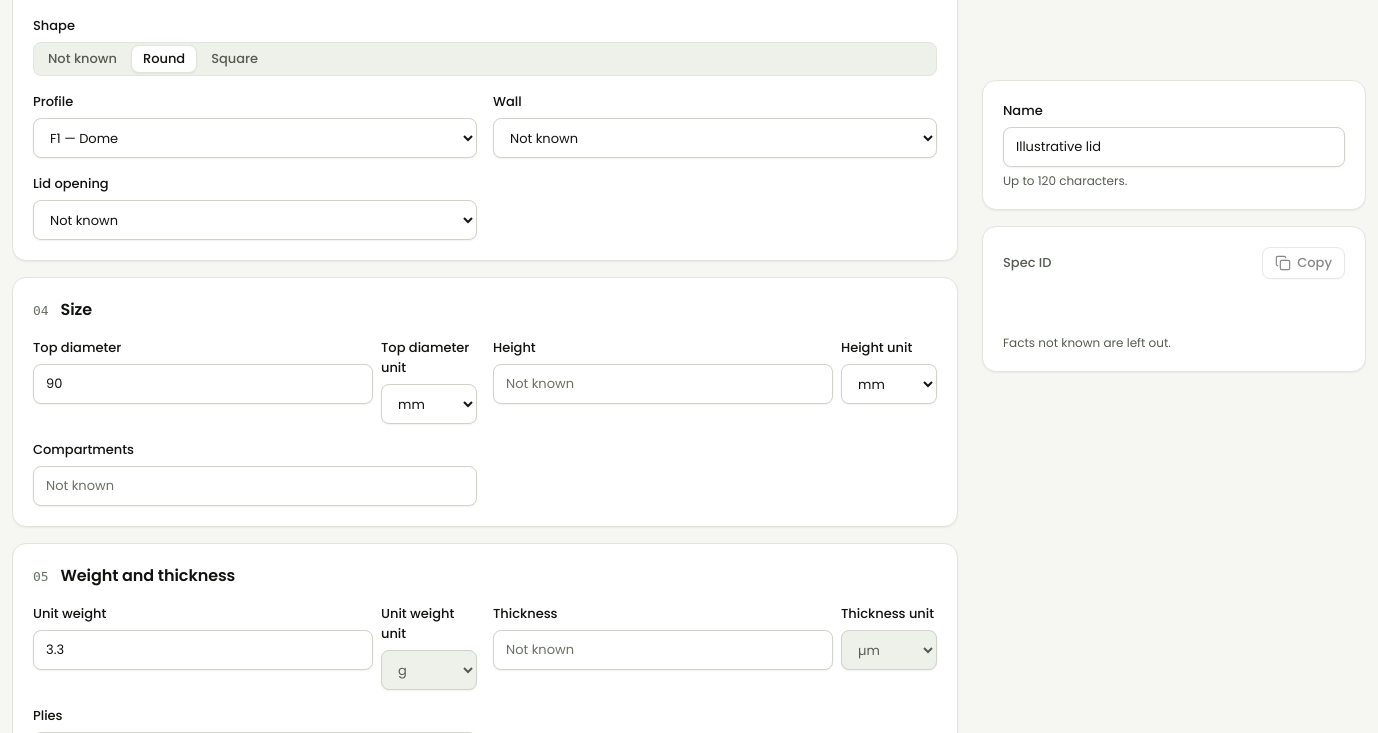
SpecIdEditor, Save changes › refuses a change someone saved first, and Reload starts again from theirs
(page scrolled)
Type "70" into the field labelled "Height" at (663, 384), box 493,364 -> 833,404
(page scrolled)
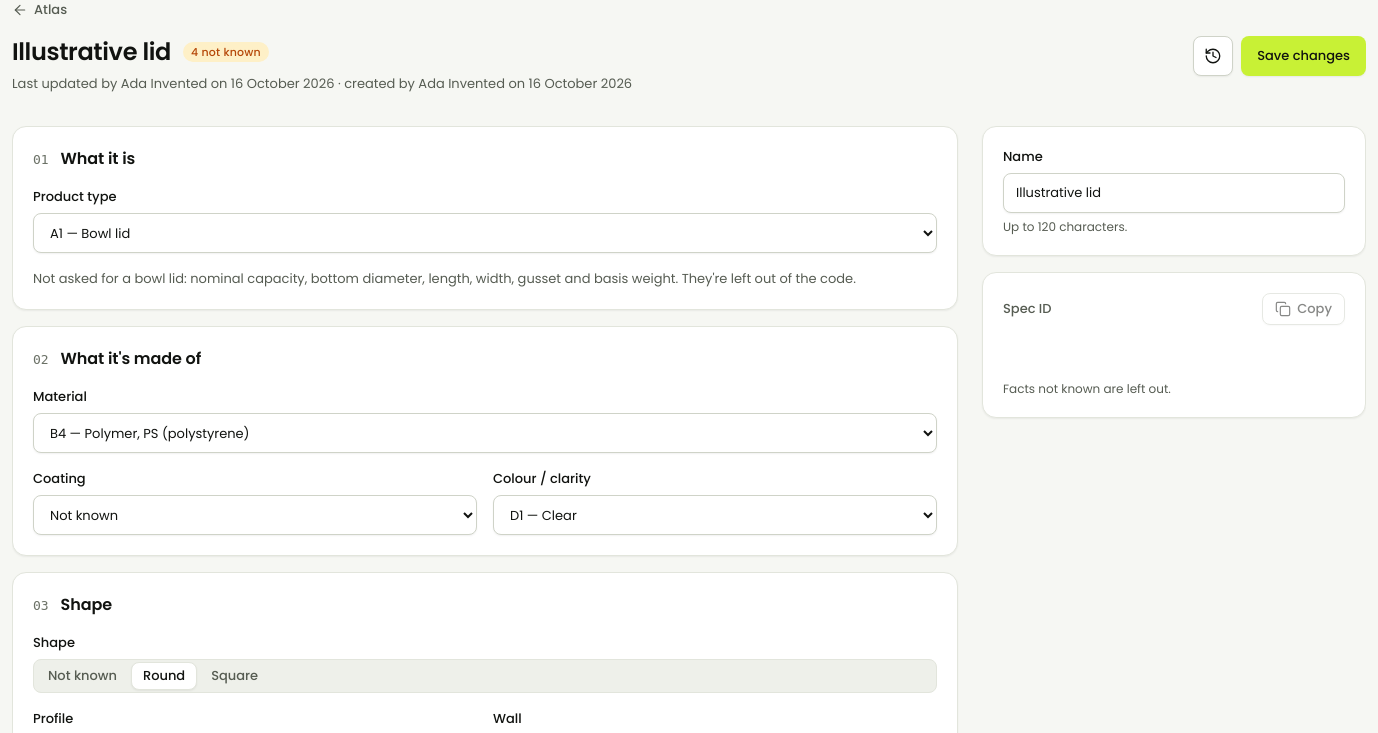
Click the button "Save changes" at (1304, 56), box 1241,36 -> 1366,76
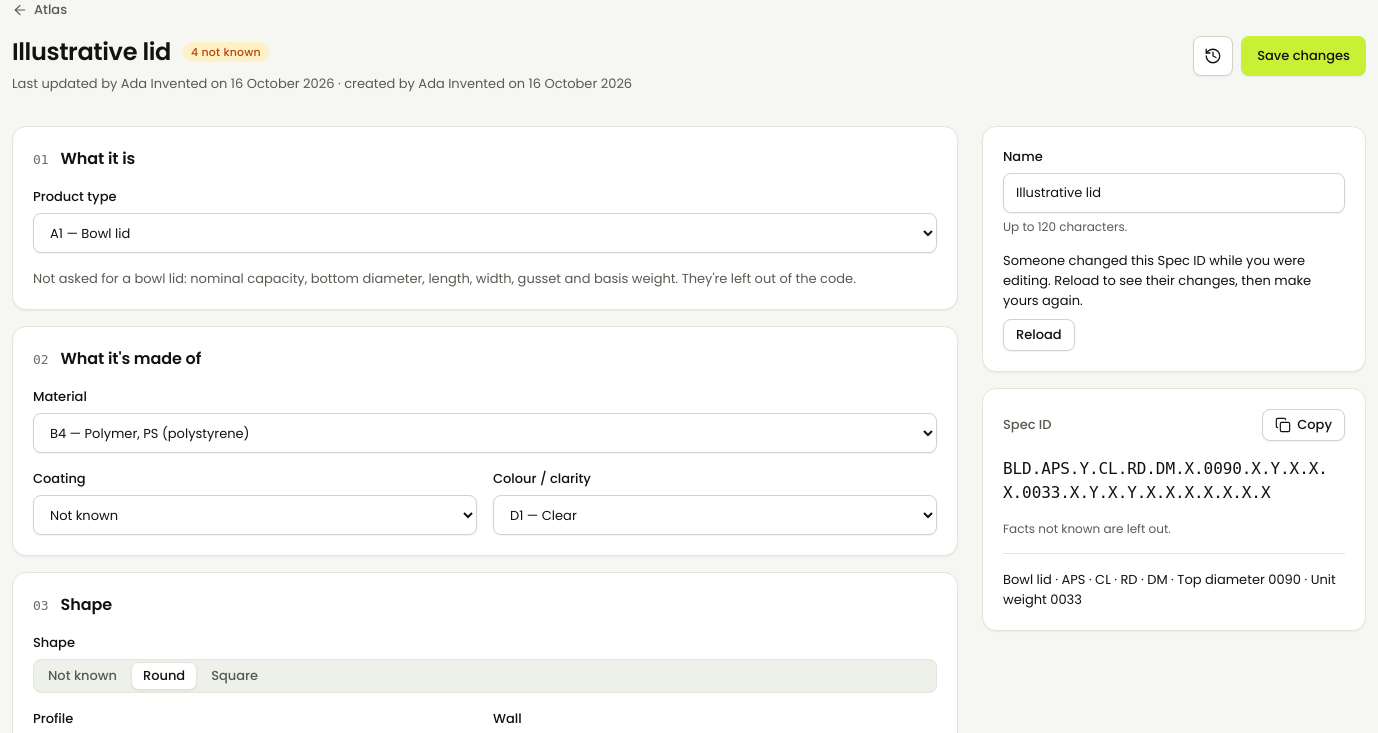
Expected: the text "Someone changed this Spec ID while you were editing. Reload to see their changes, then make yours again." is shown, 1003,251 -> 1311,310
Click the button "Reload" at (1039, 335), box 1003,319 -> 1075,351
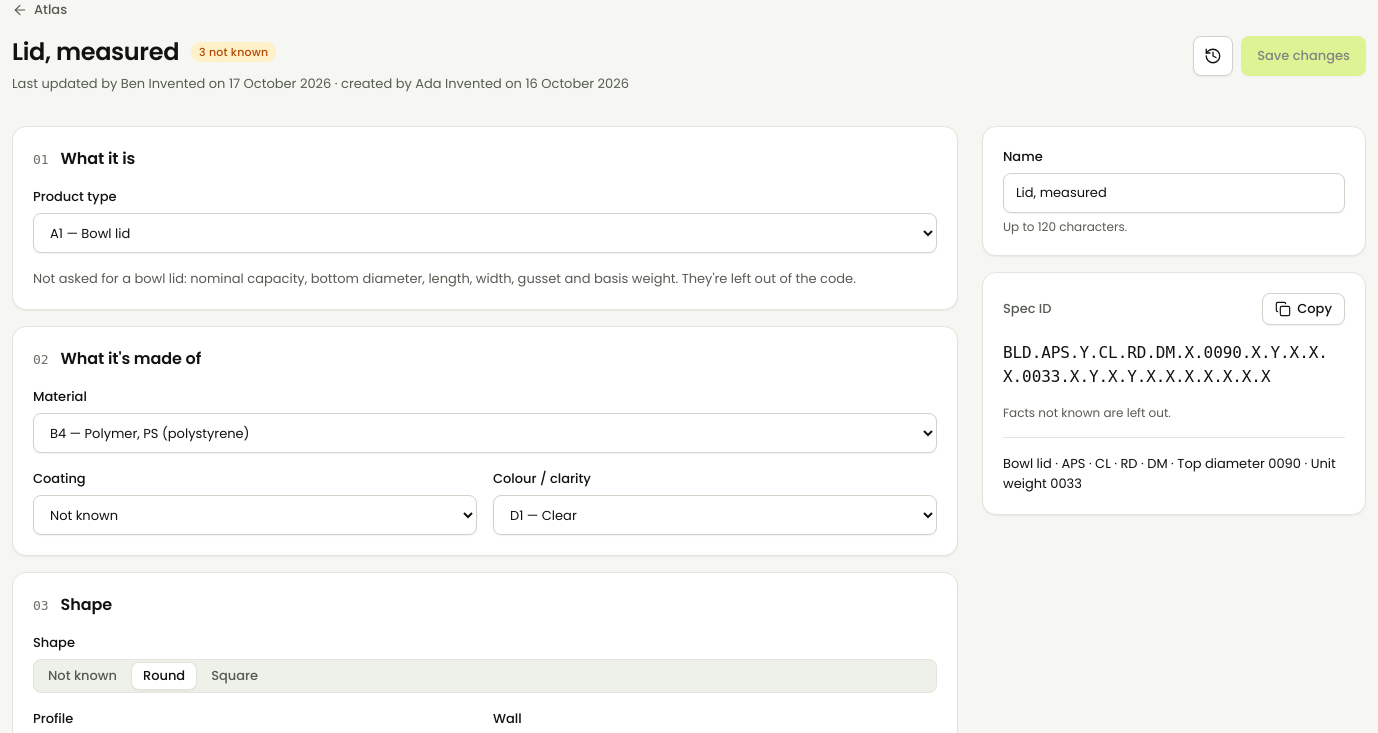
Expected: the heading "Lid, measured" is shown, 12,36 -> 179,68
Expected: the button "Save changes" is disabled, 1241,36 -> 1366,76
Expected: the text "Someone changed this Spec ID" is gone
